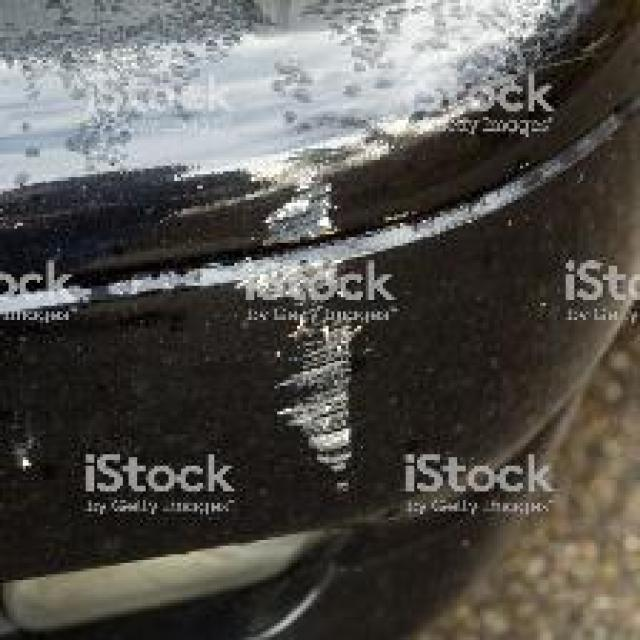bumper_scratch_severe: (226, 249, 391, 489), (263, 163, 334, 243)
